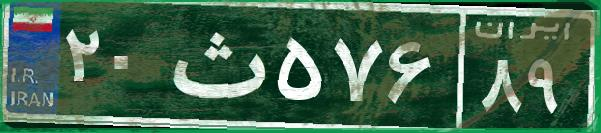0: (110, 28, 158, 105)
2: (57, 26, 110, 107)
5: (273, 28, 330, 110)
6: (385, 28, 445, 110)
7: (330, 28, 385, 110)
8: (475, 38, 525, 113)
9: (525, 38, 570, 115)
ث: (158, 15, 273, 115)
